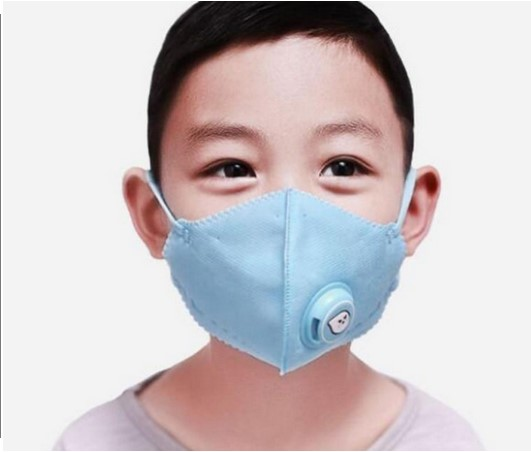face_with_mask: (134, 13, 431, 376)
